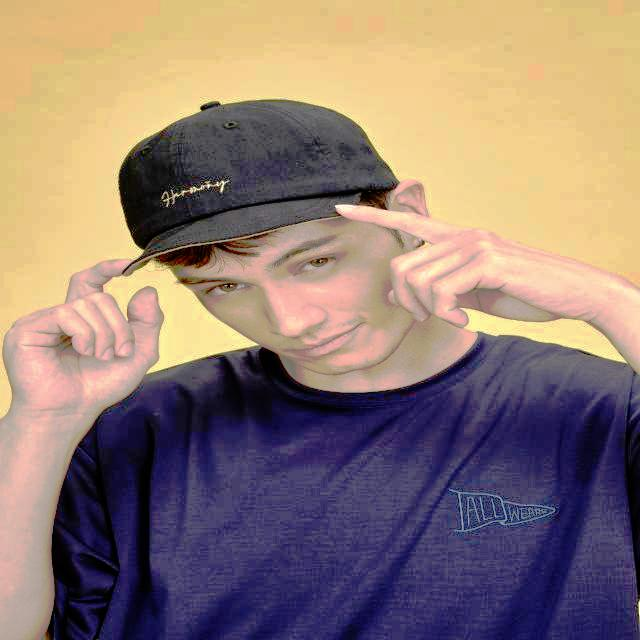TOPI: (101, 91, 414, 276)
